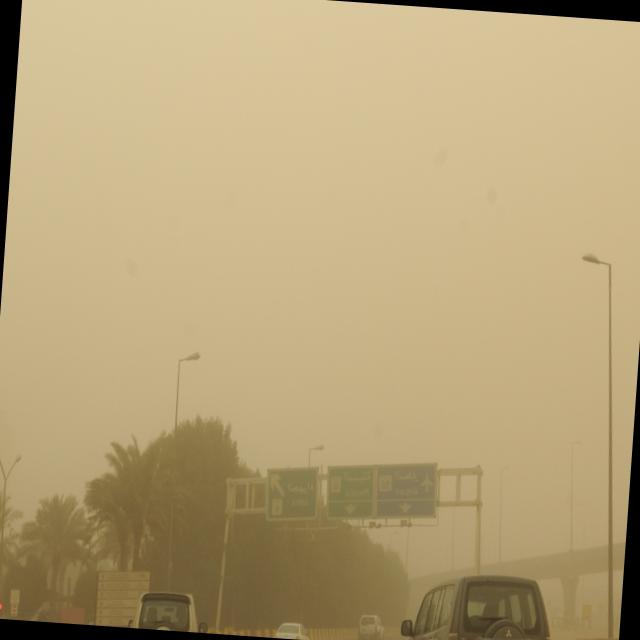car: (390, 565, 564, 640), (125, 588, 206, 633), (356, 612, 386, 640), (272, 620, 312, 640)
